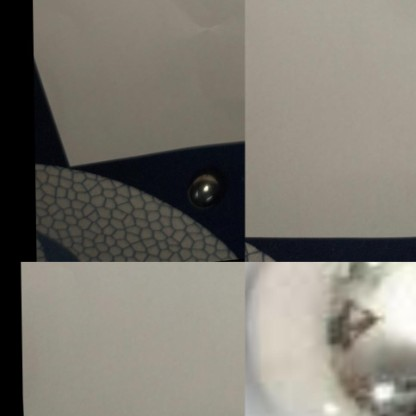ironball: (245, 261, 415, 415), (187, 170, 229, 209)
